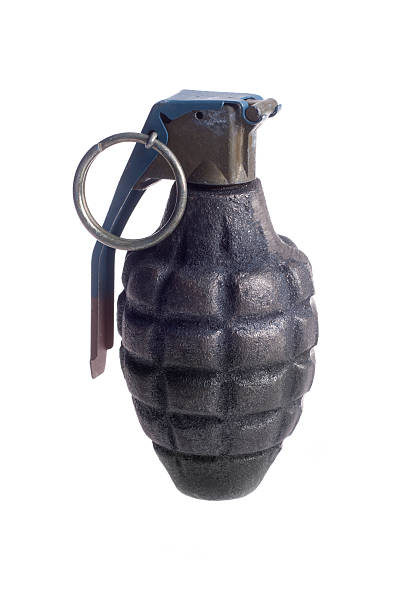e1: (71, 88, 319, 497)
